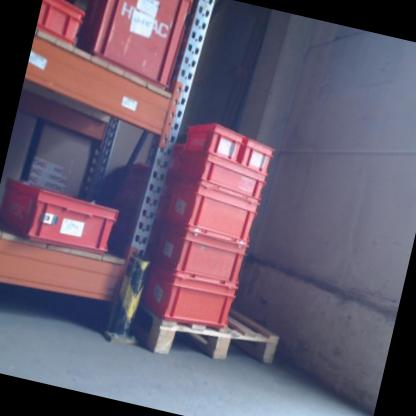pallet: (121, 290, 282, 381)
small_load_carrier: (71, 0, 194, 94), (0, 180, 120, 260), (137, 263, 241, 338), (162, 176, 262, 247), (153, 220, 253, 284), (130, 141, 183, 260), (173, 151, 270, 205), (180, 110, 248, 162), (36, 0, 90, 49), (239, 133, 282, 177)
